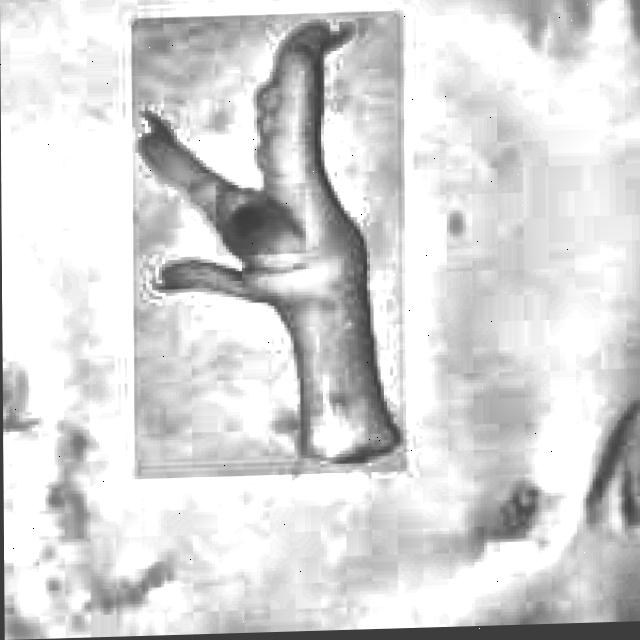Bumble foot: (134, 16, 403, 473), (219, 188, 302, 251)
